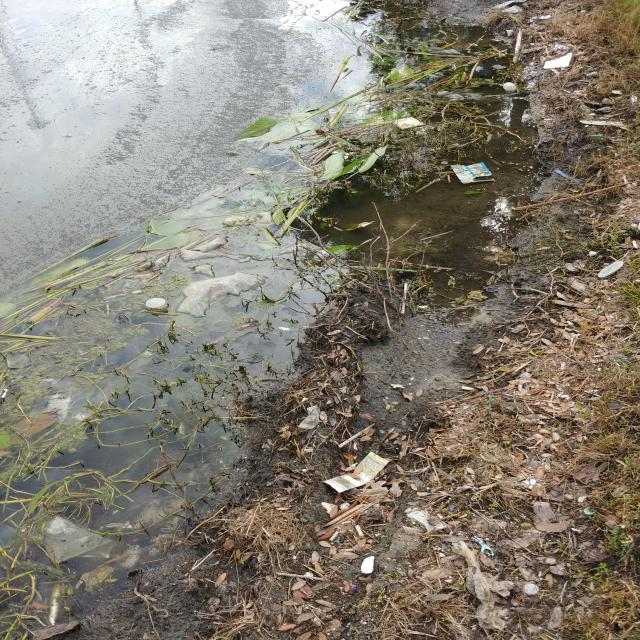litter: (32, 516, 103, 565), (327, 454, 388, 495), (452, 157, 491, 183)
